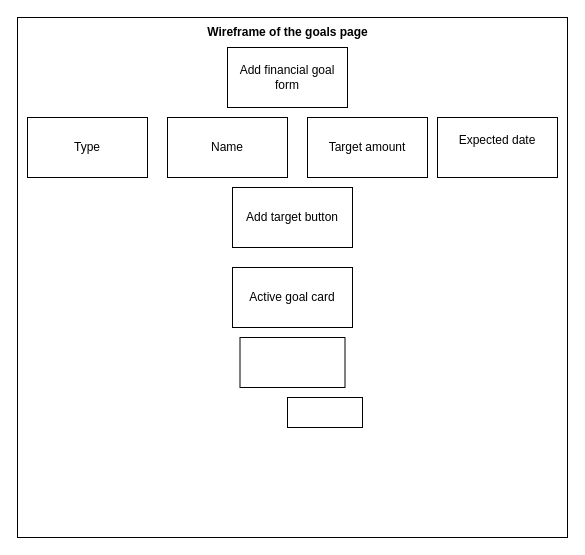
Some shapes in this 585 by 555 pixel diagram are drawn without their labels. The centre of each missing label's shape, as x and y in pixels:
"Edit button" belongs at (x=324, y=412).
"Progress bar" belongs at (x=292, y=362).
